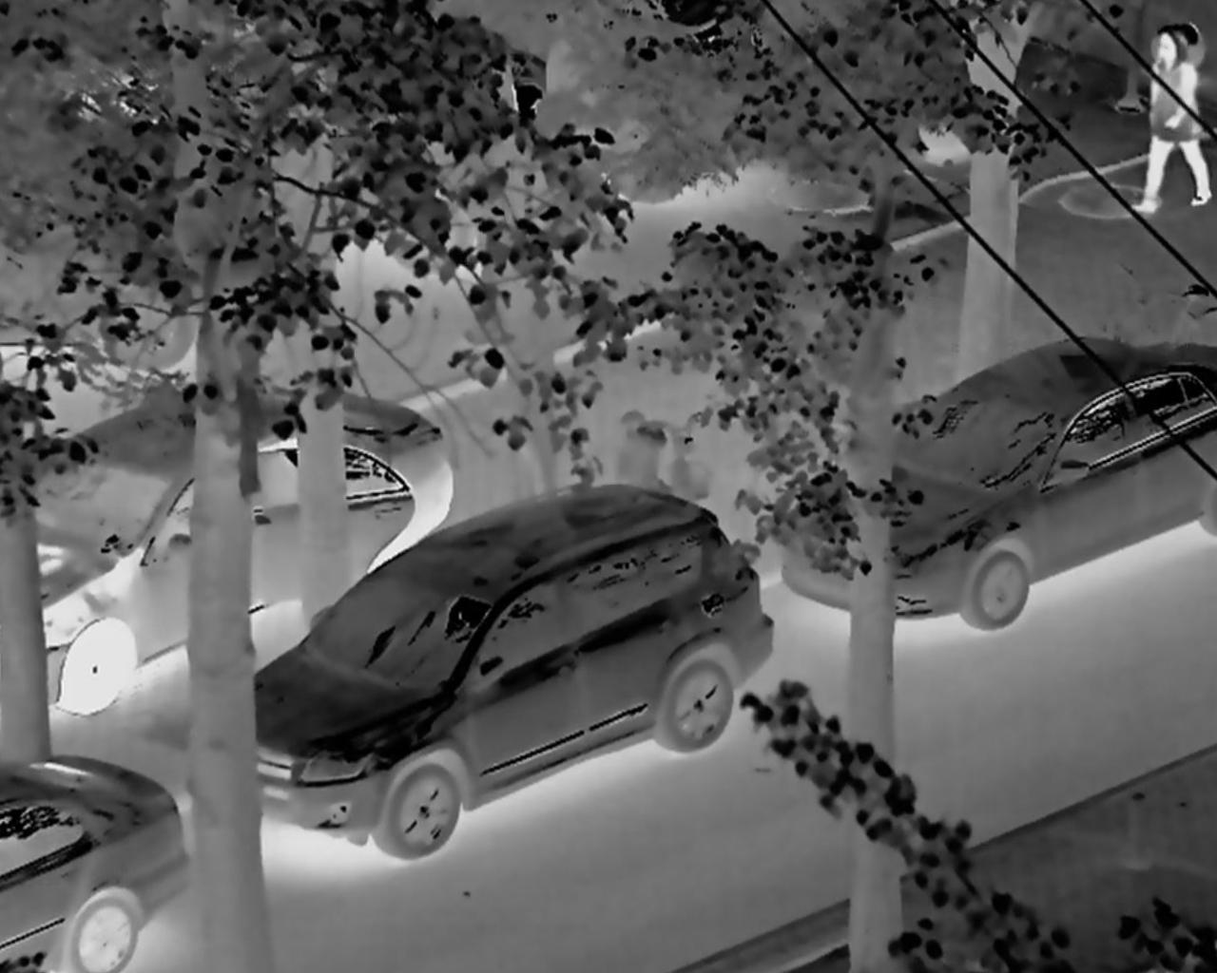person: (1130, 10, 1215, 238)
